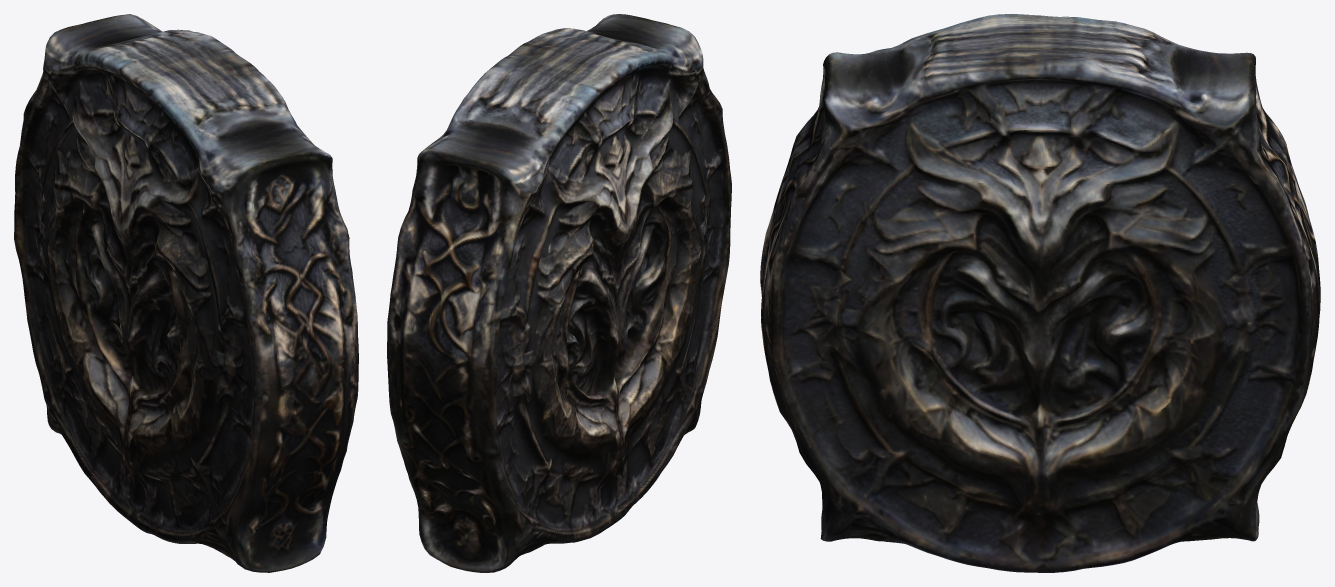
3 views of the same model, side by side, from view 1: azimuth 30°, elevation 25°; view 2: azimuth 150°, elevation 25°; view 3: azimuth 270°, elevation 25° (orthographic). The views are drawn at different scales.
Parts seen in each view (by area): view 1: RETOPO; view 2: RETOPO; view 3: RETOPO.
Part boxes in pixels (left/top/right/bottom): RETOPO: left=14, top=14, right=358, bottom=572; RETOPO: left=387, top=14, right=731, bottom=572; RETOPO: left=760, top=14, right=1320, bottom=572.
Size of the model in its own units: 23.93 by 74.48 by 74.88.
1 material, 1 textured.
